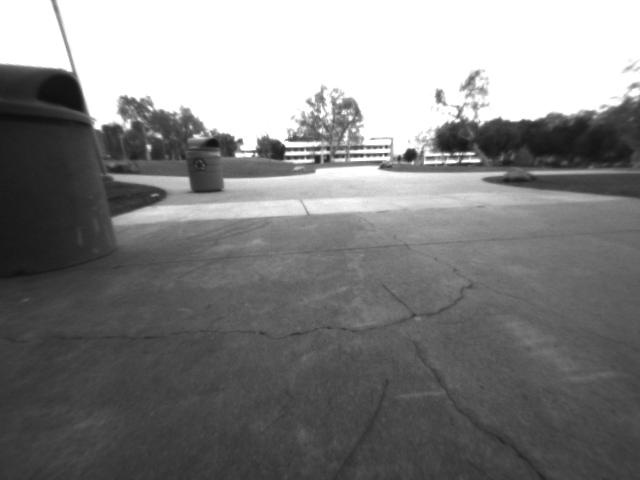trashcan: (1, 49, 137, 274)
